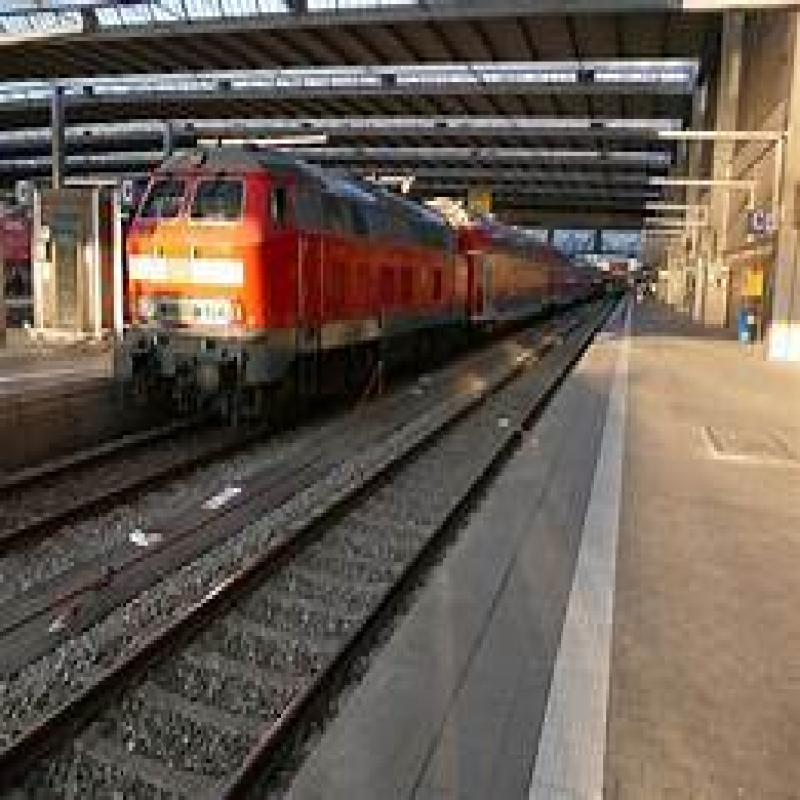train: (130, 128, 632, 395)
